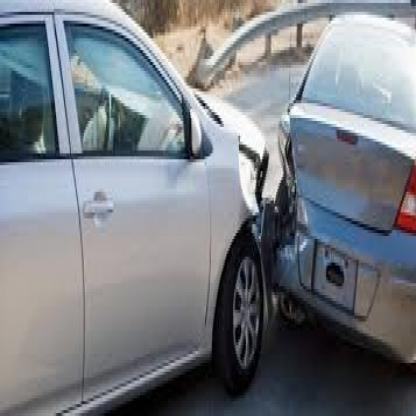accident: (66, 0, 357, 401)
